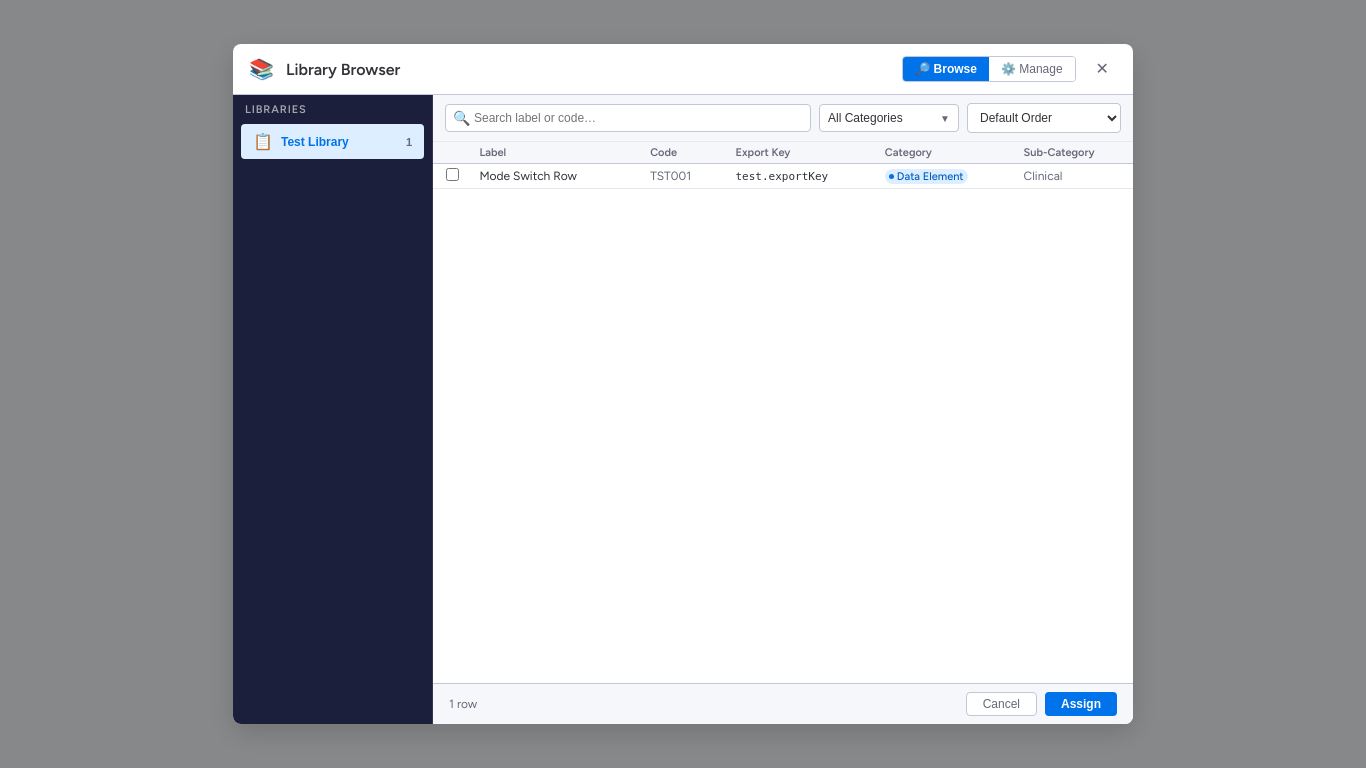
Test: LibraryBrowser — manage mode › should switch to manage mode when the Manage tab is clicked
Click the button "⚙️ Manage". click: x=1032, y=69
box: x1=989 y1=57 x2=1075 y2=81
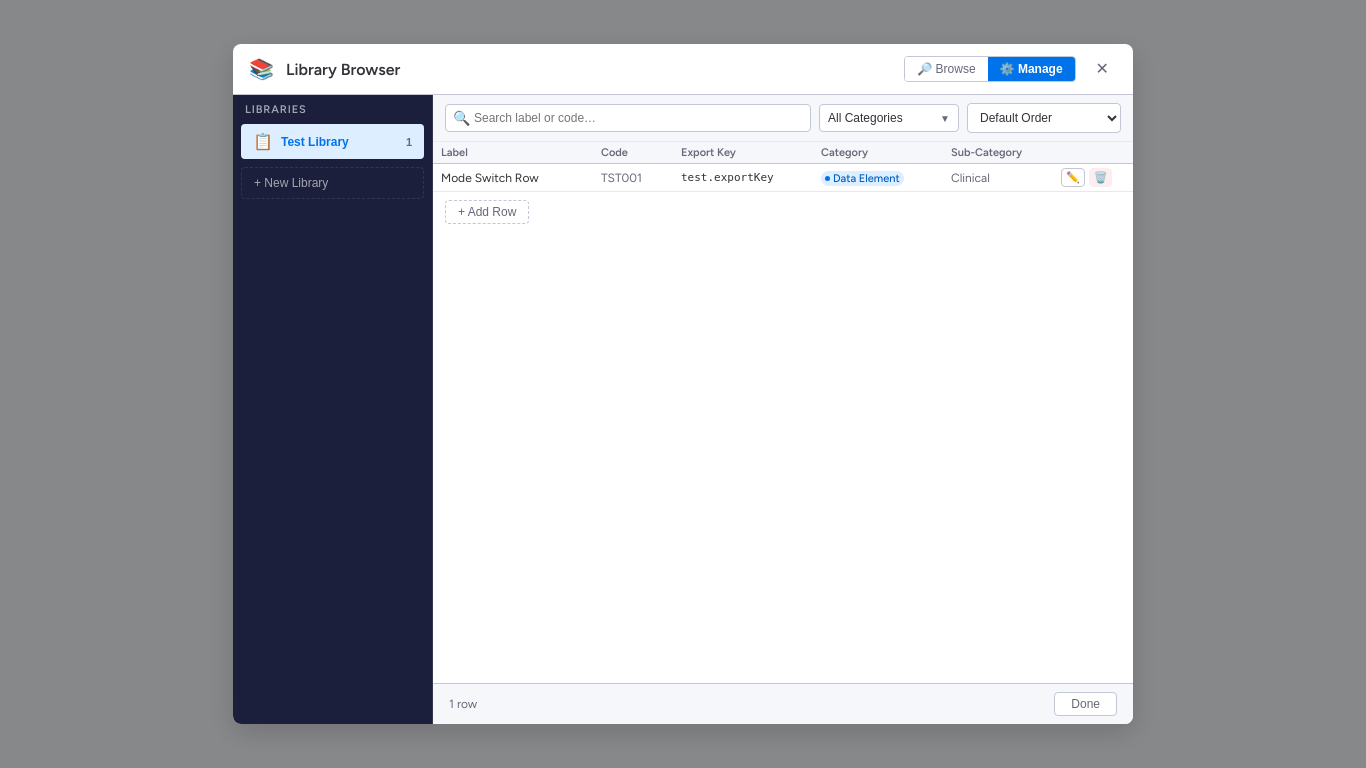
Check: the button named "edit row" is shown, box x1=1061 y1=168 x2=1085 y2=187
